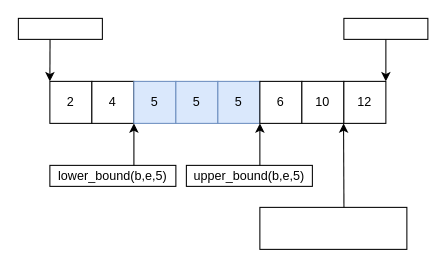
This 446x268 diagram has some shape labels left out. Each missing label, with the centre of its shape:
"b := v.begin()" goes at point (59, 28).
"e := v.end()" goes at point (385, 28).
"lower_bound(b, e, 11) = upper_bound( b, e, 11)" goes at point (333, 227).
